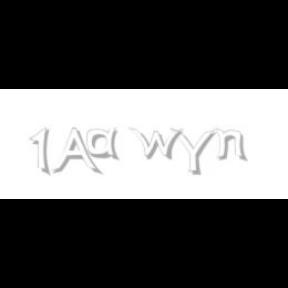1: (29, 128, 51, 176)
A: (51, 128, 99, 176)
Y: (170, 128, 216, 176)
a: (86, 128, 124, 160)
n: (215, 128, 249, 162)
w: (128, 128, 188, 160)
